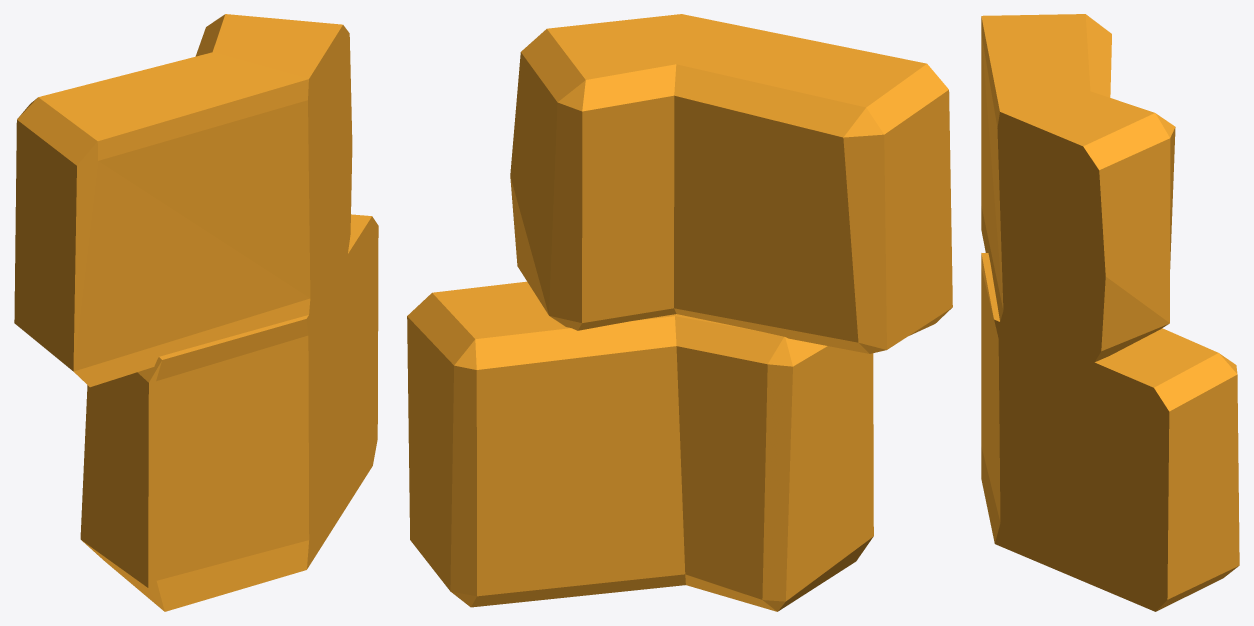
The model's file is SM_Wall_Thick_Corner_Diagonal_Out_Stone_1m_Int_Fantasy.fbx.
The picture shows the model from 3 angles, left to right: view 1: azimuth 30°, elevation 25°; view 2: azimuth 150°, elevation 25°; view 3: azimuth 270°, elevation 25°; orthographic projection. The views are drawn at different scales.
Parts seen in each view (by area): view 1: SM_Wall_Thick_Corner_Diagonal_Out_Stone_1m_Int_Fantasy; view 2: SM_Wall_Thick_Corner_Diagonal_Out_Stone_1m_Int_Fantasy; view 3: SM_Wall_Thick_Corner_Diagonal_Out_Stone_1m_Int_Fantasy.
Boxes of the visible parts, left/top/right/bottom form: SM_Wall_Thick_Corner_Diagonal_Out_Stone_1m_Int_Fantasy: left=14, top=14, right=378, bottom=611; SM_Wall_Thick_Corner_Diagonal_Out_Stone_1m_Int_Fantasy: left=407, top=14, right=952, bottom=611; SM_Wall_Thick_Corner_Diagonal_Out_Stone_1m_Int_Fantasy: left=981, top=14, right=1239, bottom=611.
Bounding box in the file's own units: 0.8846 × 1.01 × 0.5409.
